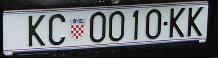.: (163, 21, 168, 26)
0: (145, 9, 162, 40), (89, 11, 106, 42), (109, 11, 125, 42)
1: (132, 10, 139, 41)
C: (48, 14, 66, 46)
K: (29, 15, 46, 47), (169, 8, 184, 38), (188, 7, 203, 37)
